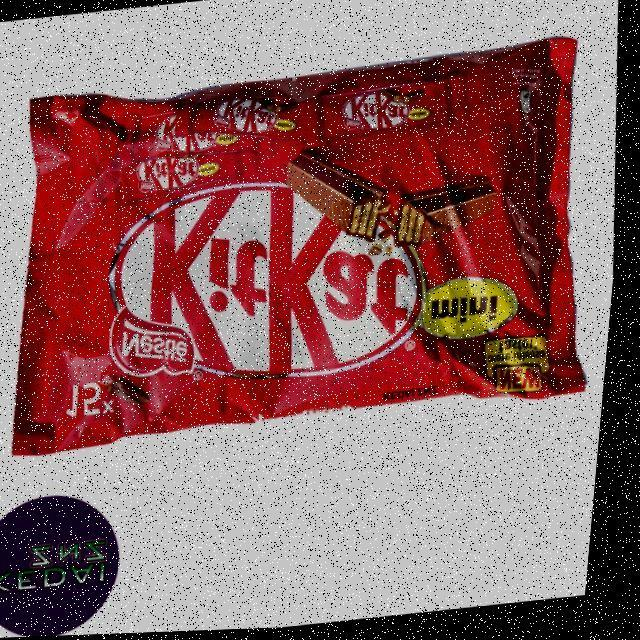kitkat_chocolate: (25, 59, 592, 424)
